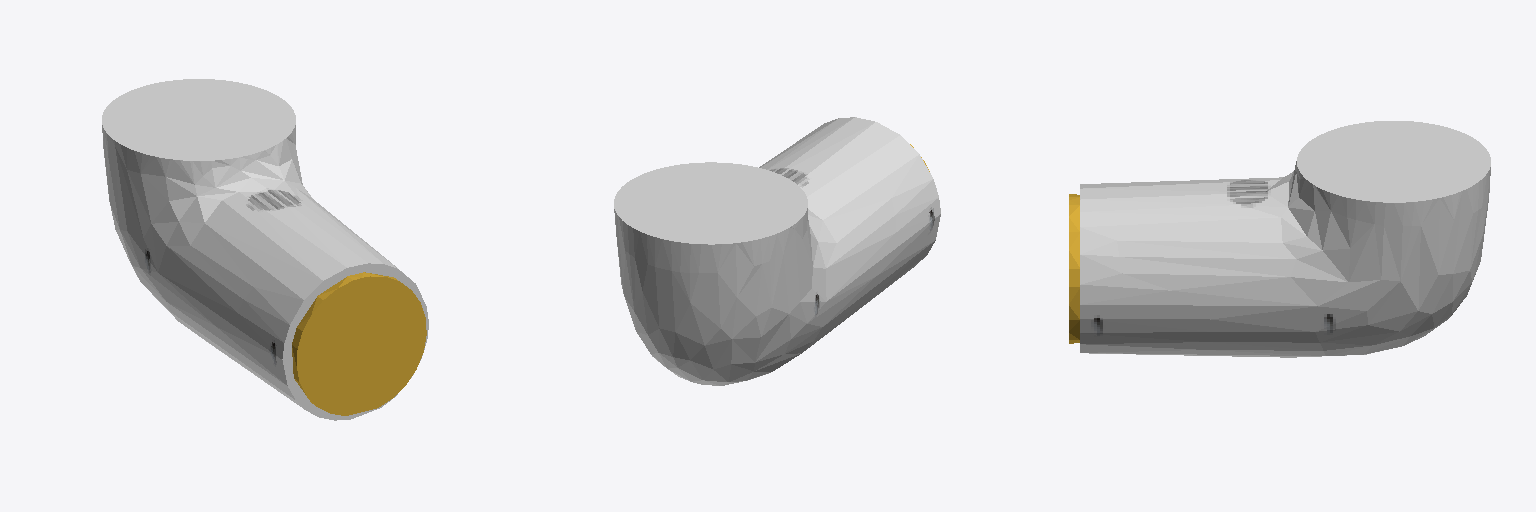
3 renders of one model, left to right at view 1: azimuth 30°, elevation 25°; view 2: azimuth 150°, elevation 25°; view 3: azimuth 270°, elevation 25°, orthographic.
Parts seen in each view (by area): view 1: link_shoulder whole_robot; view 2: link_shoulder whole_robot; view 3: link_shoulder whole_robot.
Part boxes in pixels (bbox=[...]): link_shoulder whole_robot: bbox=[102, 79, 428, 420]; link_shoulder whole_robot: bbox=[614, 117, 940, 385]; link_shoulder whole_robot: bbox=[1069, 121, 1490, 357].
Bounding box in the file's own units: 0.13 × 0.139 × 0.2824.
1 materials, 1 textured.